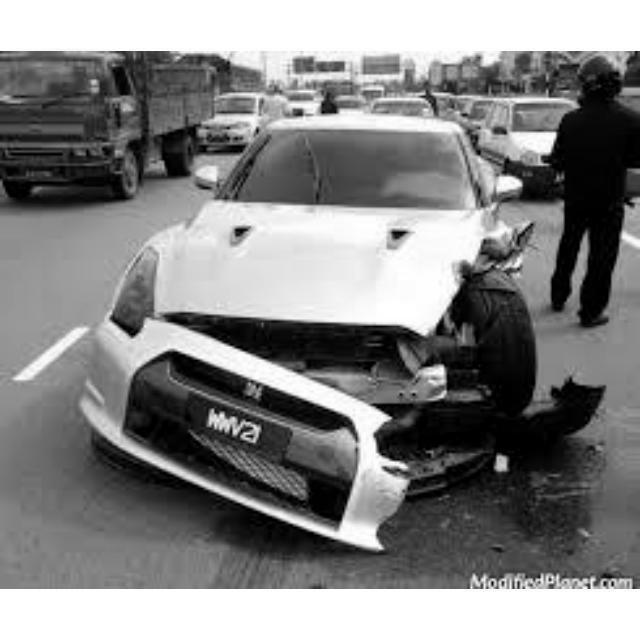front-bumper-dent: (87, 328, 400, 500)
